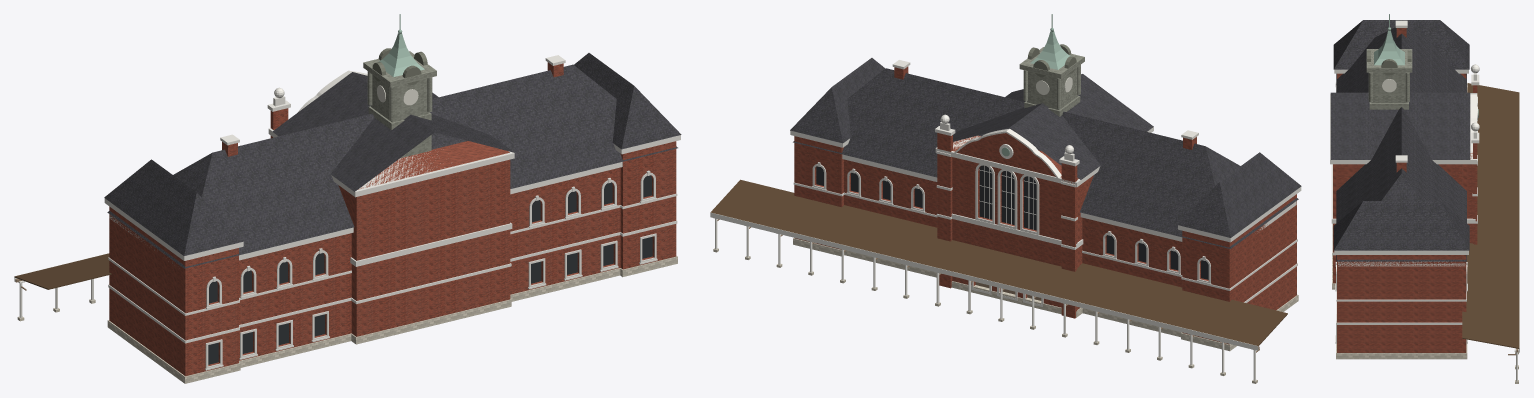
File: station1917.glb
The picture shows the model from 3 angles, left to right: view 1: azimuth 30°, elevation 25°; view 2: azimuth 150°, elevation 25°; view 3: azimuth 270°, elevation 25°; orthographic projection. The views are drawn at different scales.
Parts seen in each view (by area): view 1: band; view 2: band; view 3: band.
Part boxes in pixels (x1,y1,x2,y2): band: (14,14,681,383); band: (710,14,1301,383); band: (1330,14,1519,383).
Bounding box in the file's own units: 74 × 32.8 × 23.2.
Materials: 11 (6 with a texture image).
